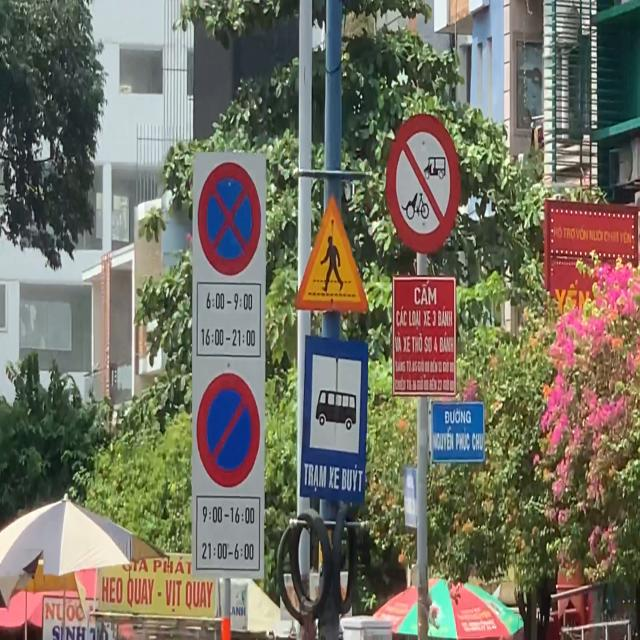Ben xe buyt: (298, 327, 368, 507)
Cam con lai: (383, 110, 462, 259)
Cam do: (194, 364, 264, 496)
Cam dung va do: (195, 158, 264, 282)
Nguoi di bo cat ngang: (290, 189, 374, 319)
